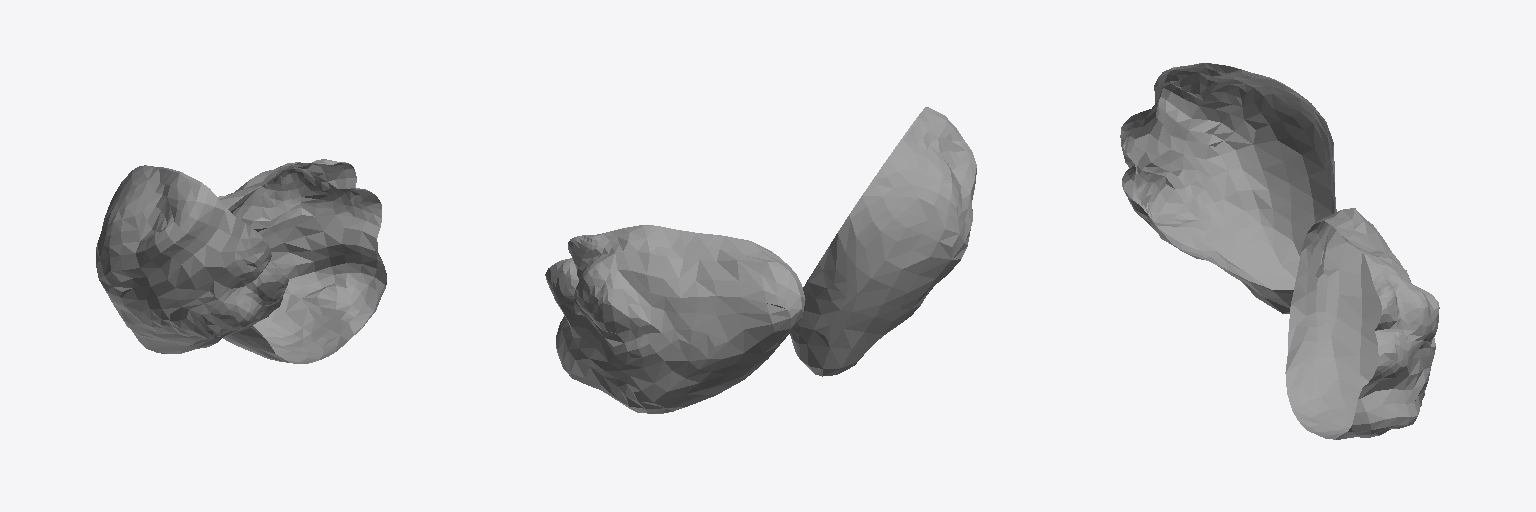
The model's file is Heart_cut.obj.
3 views of the same model, side by side, from view 1: azimuth 30°, elevation 25°; view 2: azimuth 150°, elevation 25°; view 3: azimuth 270°, elevation 25° (orthographic).
Parts seen in each view (by area): view 1: Heart, Heart.001; view 2: Heart.001, Heart; view 3: Heart, Heart.001.
Boxes of the visible parts, x1,y1,x2,y2 form: Heart: [96, 165, 288, 353]; Heart.001: [218, 159, 386, 363]; Heart.001: [545, 225, 805, 413]; Heart: [790, 107, 976, 376]; Heart: [1120, 63, 1336, 313]; Heart.001: [1285, 208, 1439, 439].
Size of the model in its own units: 1.16 by 0.8865 by 0.9247.